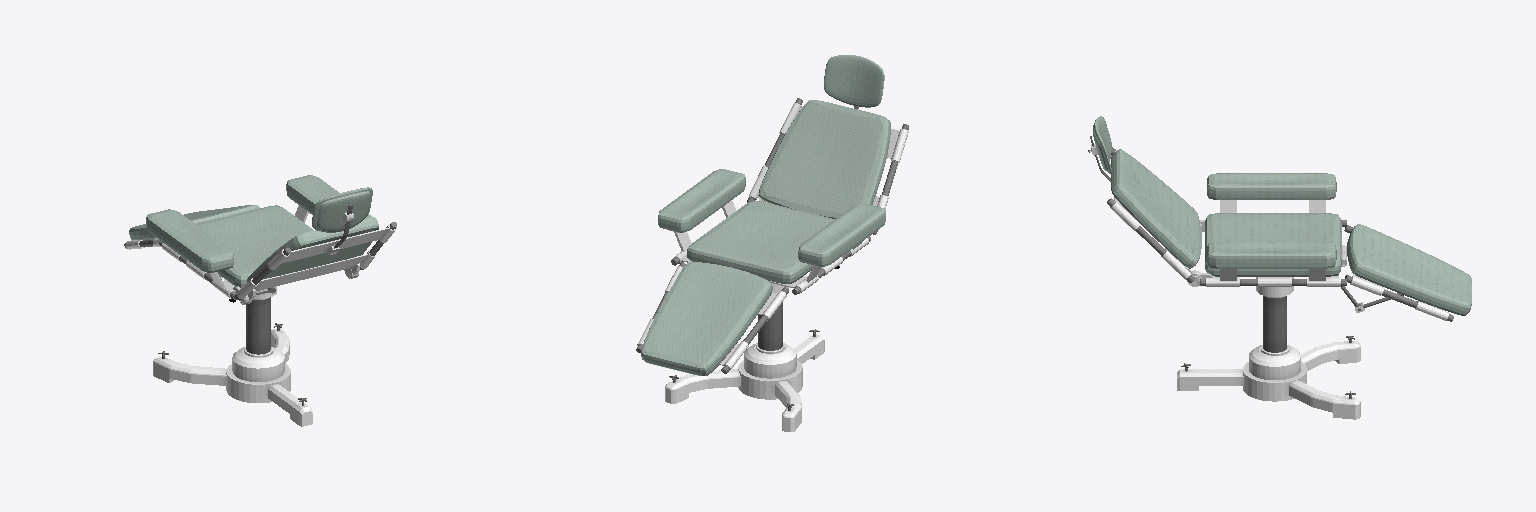
3 views of the same model, side by side, from view 1: azimuth 30°, elevation 25°; view 2: azimuth 150°, elevation 25°; view 3: azimuth 270°, elevation 25° (orthographic).
Parts seen in each view (by area): view 1: Pillow_Cube.012, Construction_Cylinder; view 2: Pillow_Cube.012, Construction_Cylinder; view 3: Pillow_Cube.012, Construction_Cylinder.
Boxes of the visible parts, box(x1,y1,x2,y2) form: Pillow_Cube.012: box(129, 175, 378, 287); Construction_Cylinder: box(124, 205, 396, 426); Pillow_Cube.012: box(641, 55, 890, 375); Construction_Cylinder: box(636, 98, 908, 431); Pillow_Cube.012: box(1093, 116, 1471, 315); Construction_Cylinder: box(1088, 136, 1453, 419).
Size of the model in its own units: 0.7414 by 1.09 by 1.43.
2 materials, 2 textured.